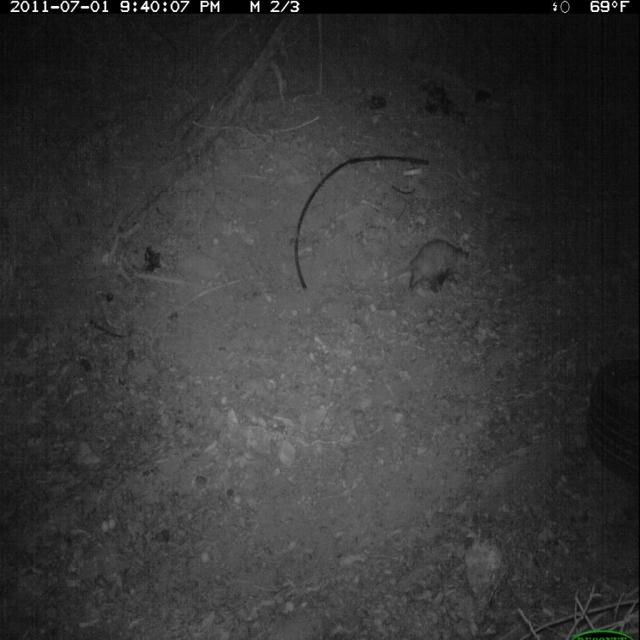opossum: (398, 229, 486, 308)
